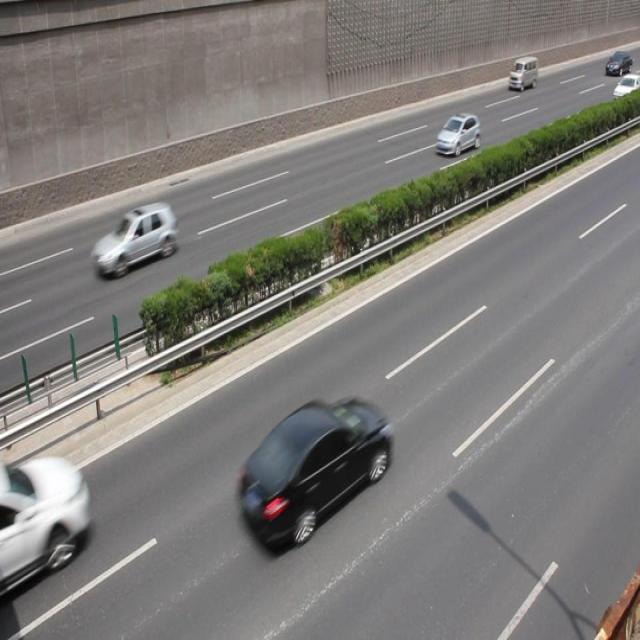car: (238, 395, 395, 550), (1, 454, 92, 602), (92, 204, 178, 276), (436, 111, 479, 154)
truck: (506, 54, 536, 88)
